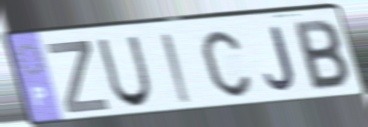B: (292, 18, 353, 94)
C: (199, 28, 254, 100)
I: (158, 30, 196, 106)
J: (262, 24, 298, 93)
U: (95, 34, 155, 110)
Z: (44, 38, 113, 116)
